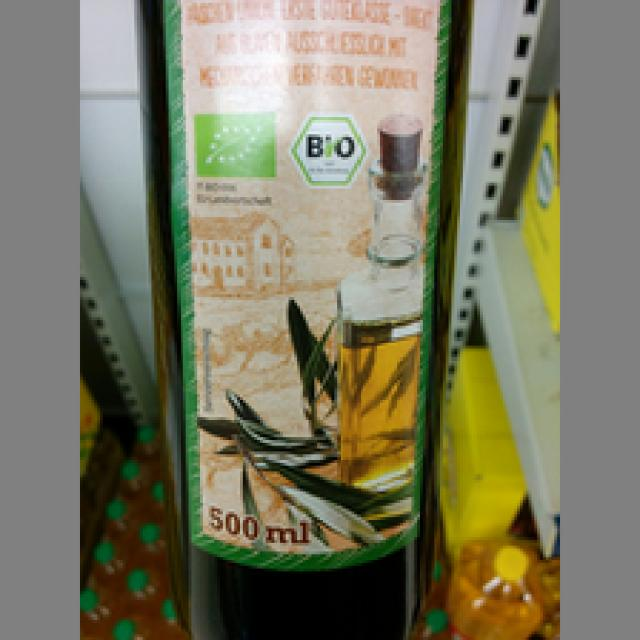groceries: (129, 0, 474, 637)
